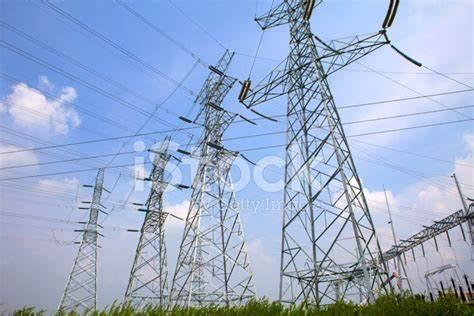power_tower: (238, 0, 424, 308), (178, 45, 261, 310), (125, 134, 183, 310), (57, 163, 118, 315)
